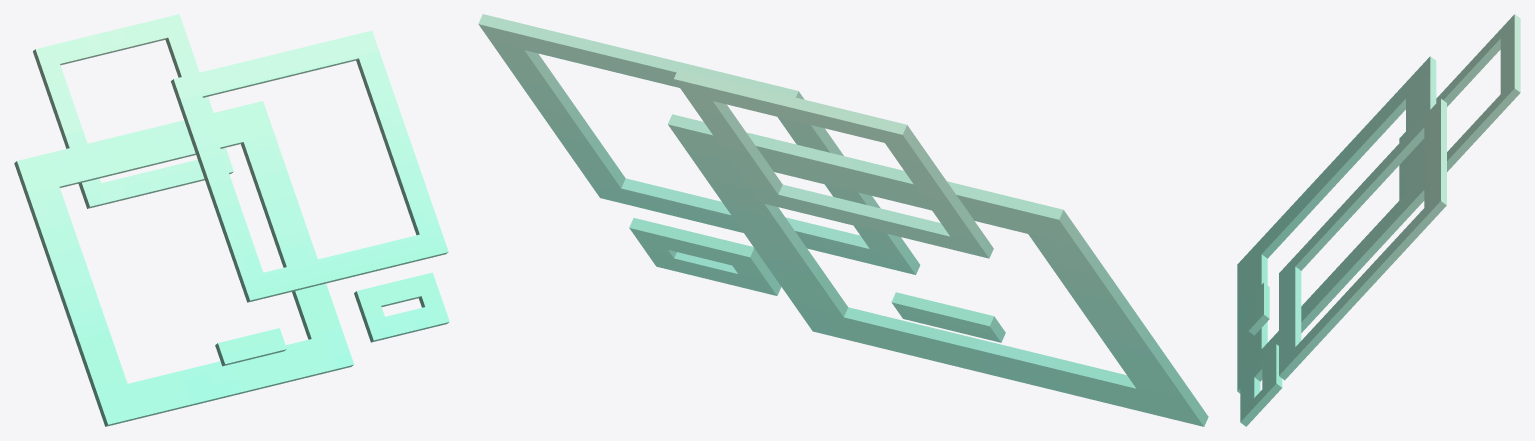
Rendered from Aris_Original_Halo_0.glb.
3 views of the same model, side by side, from view 1: azimuth 30°, elevation 25°; view 2: azimuth 150°, elevation 25°; view 3: azimuth 270°, elevation 25° (orthographic). The views are drawn at different scales.
Visible parts, largest first — view 1: Aris_Original_Halo; view 2: Aris_Original_Halo; view 3: Aris_Original_Halo.
Part boxes in pixels (x1=…): Aris_Original_Halo: x1=14, y1=14, x2=449, y2=426; Aris_Original_Halo: x1=478, y1=14, x2=1208, y2=426; Aris_Original_Halo: x1=1237, y1=14, x2=1520, y2=426.
Bounding box in the file's own units: 0.2819 × 0.2017 × 0.1816.
1 material, 1 textured.
